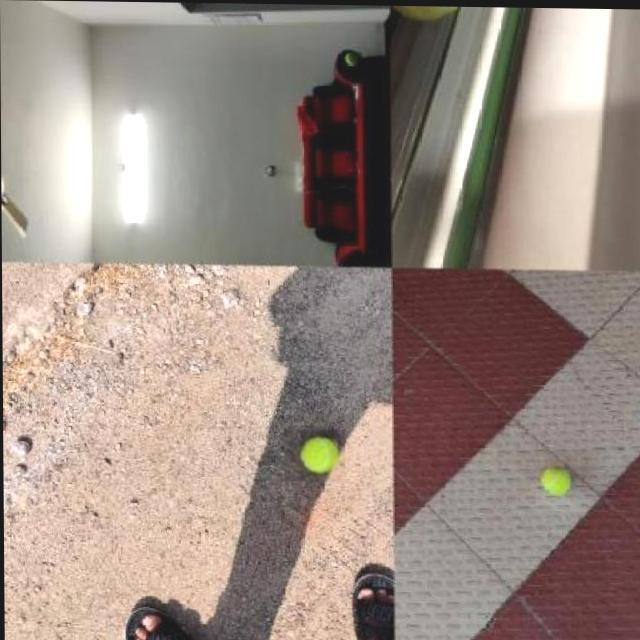-: (284, 428, 344, 481), (535, 455, 580, 510)
